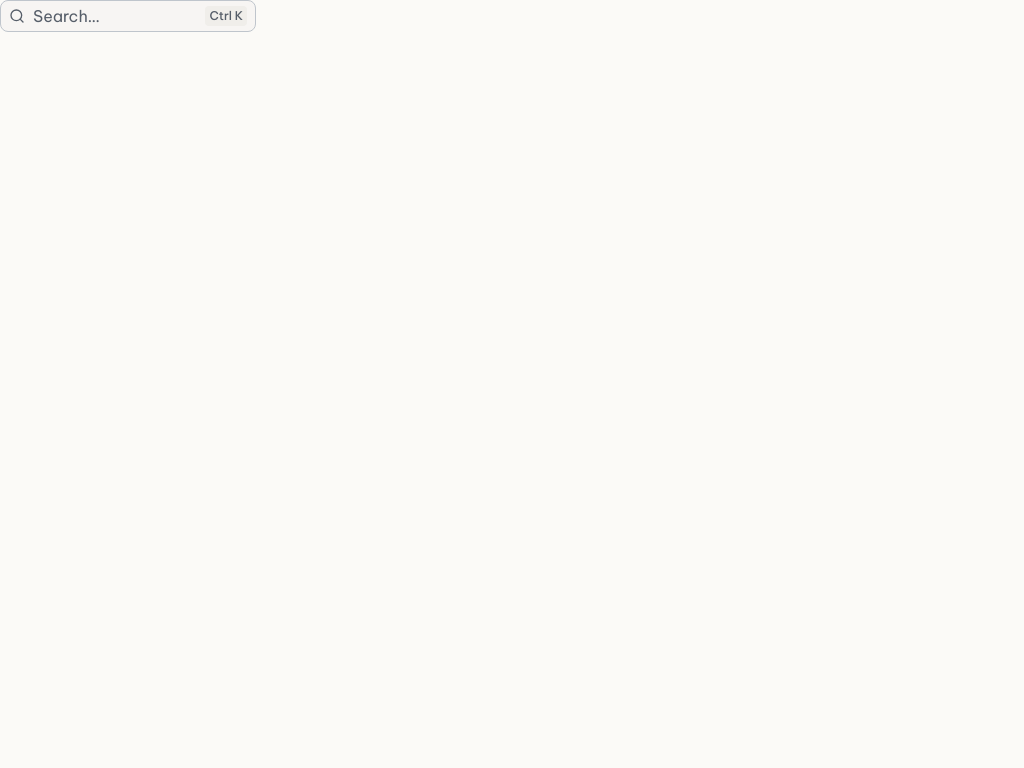
StaffCommandDialog actions › asks the unsaved-changes guard before router.push and closes
The width and height of the screenshot is (1024, 768).
Press k
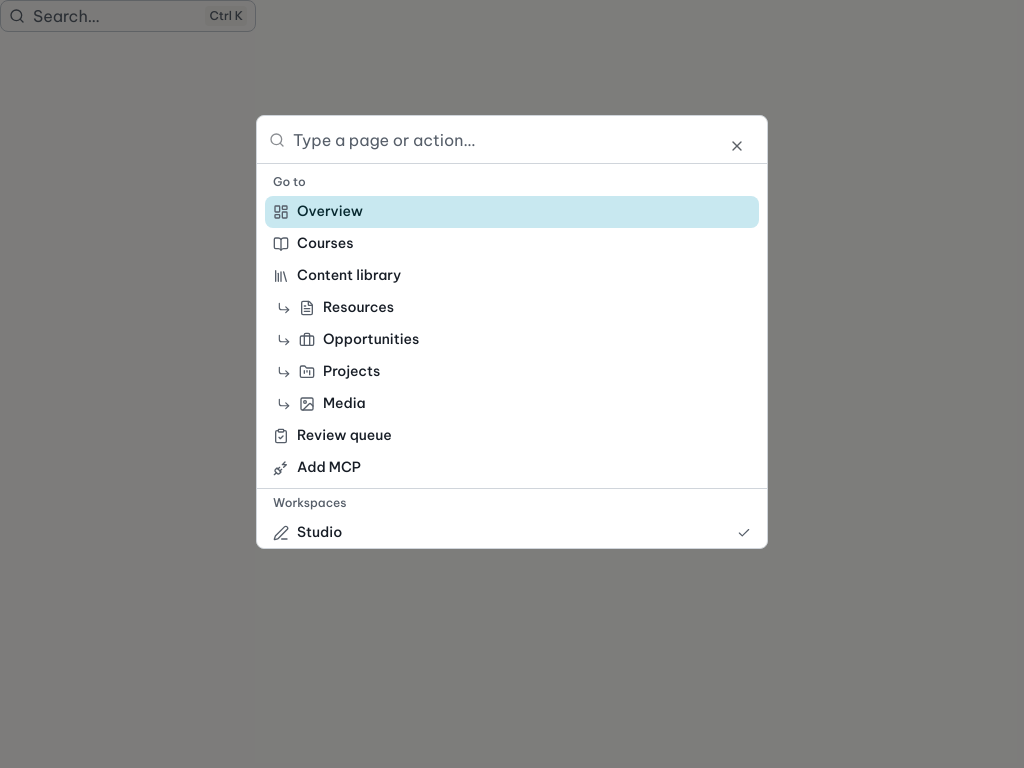
Click the option "Courses" at (313, 243), box [273,234,354,252]
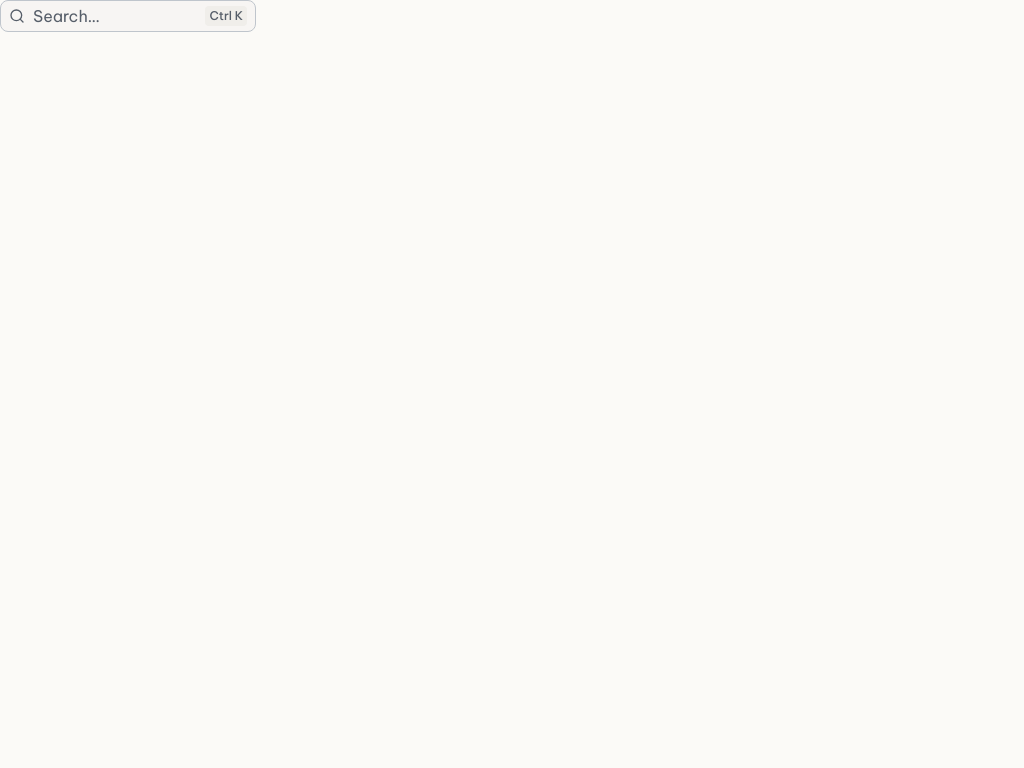
Result: the dialog is gone
